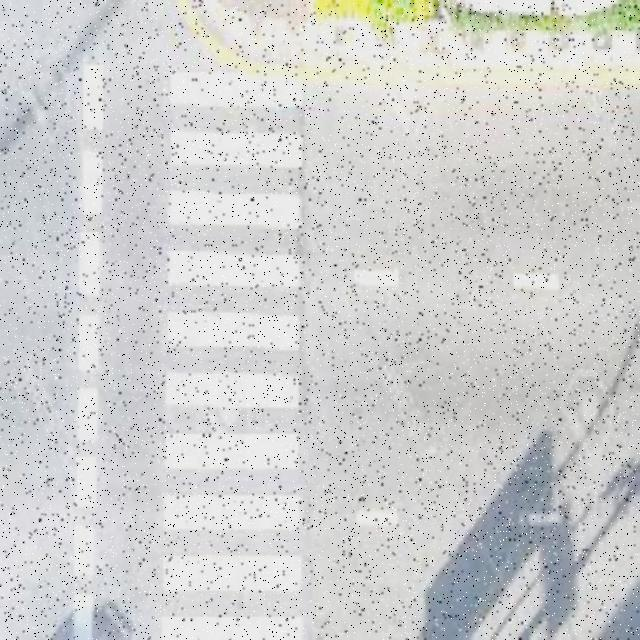Pedestrian crosswalk: (129, 57, 323, 637)
